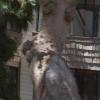Statue: (21, 3, 73, 92)
